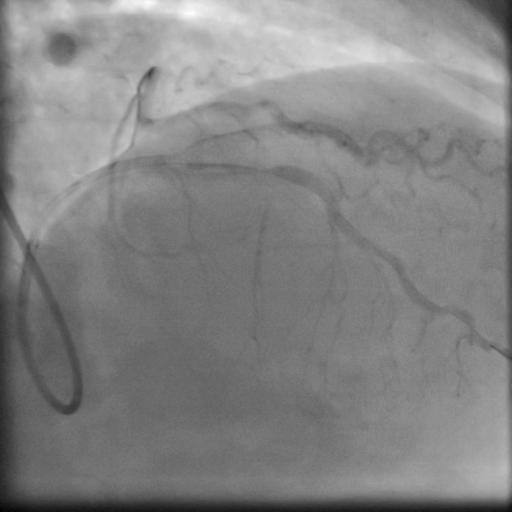Stenosis: (247, 158, 281, 183)
